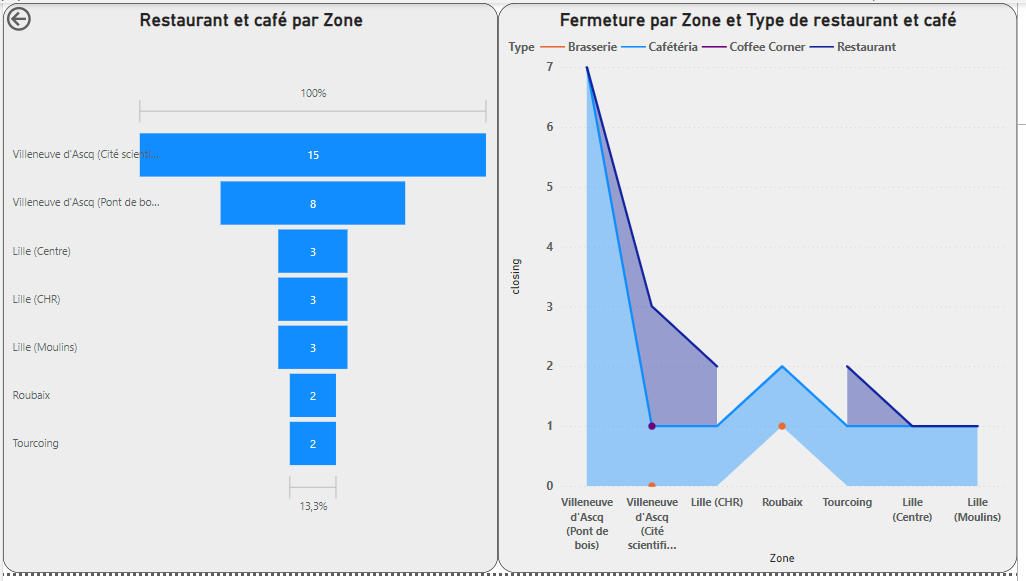

The page's visual inventory and layout, read from the dashboard file:
{"tool":"powerbi","page":{"name":"Entonnoir et Graphique de zone empilé","canvas":[1280,720],"ordinal":2},"visuals":[{"type":"funnel","title":"Restaurant et café par Zone","fields":{"Y":["CountNonNull(ensemble-des-lieux-de-restauration-des-crous.Type)"],"Category":["ensemble-des-lieux-de-restauration-des-crous.Zone"]},"box":[0,0,624.9,719.5],"z":0},{"type":"actionButton","box":[0,0,100,40],"z":1},{"type":"stackedAreaChart","title":"Fermeture par Zone et Type de restaurant et café","fields":{"Category":["ensemble-des-lieux-de-restauration-des-crous.Zone"],"Y":["Sum(ensemble-des-lieux-de-restauration-des-crous.closing)"],"Series":["ensemble-des-lieux-de-restauration-des-crous.Type"]},"box":[624.9,0,655.1,719.5],"z":2}]}

Visuals, with their boxes in screenshot pixels (x1, y1, x2, y2), scaled from the page's 1280x720 canvas onto the 1026x581 screenshot:
"Restaurant et café par Zone" funnel: 0,0,501,580
actionButton: 0,0,80,32
"Fermeture par Zone et Type de restaurant et café" stackedAreaChart: 501,0,1025,580
